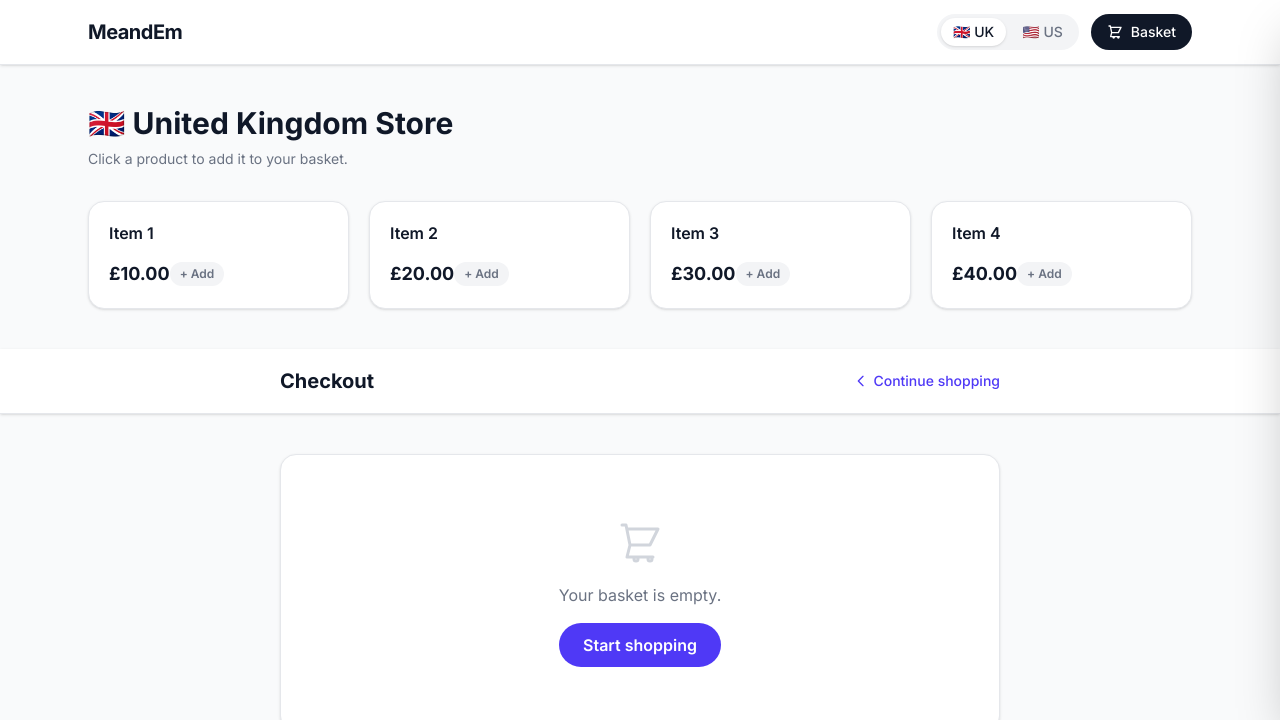
Test: Checkout › shows items and total after adding to basket
This screenshot has width=1280, height=720.
Click the button "Item 1 £10.00 + Add" at (131, 233), box [88,201,349,309]
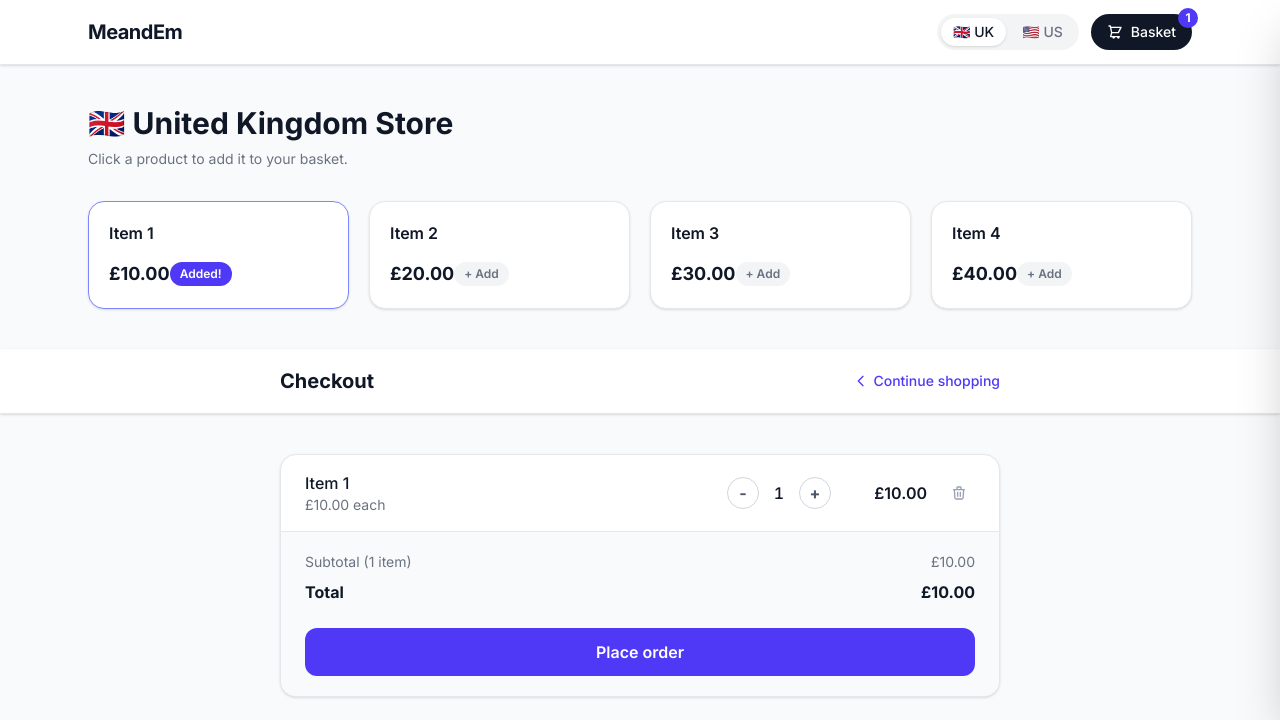
Click the button "Item 1 £10.00 Added!" at (131, 233), box [88,201,349,309]
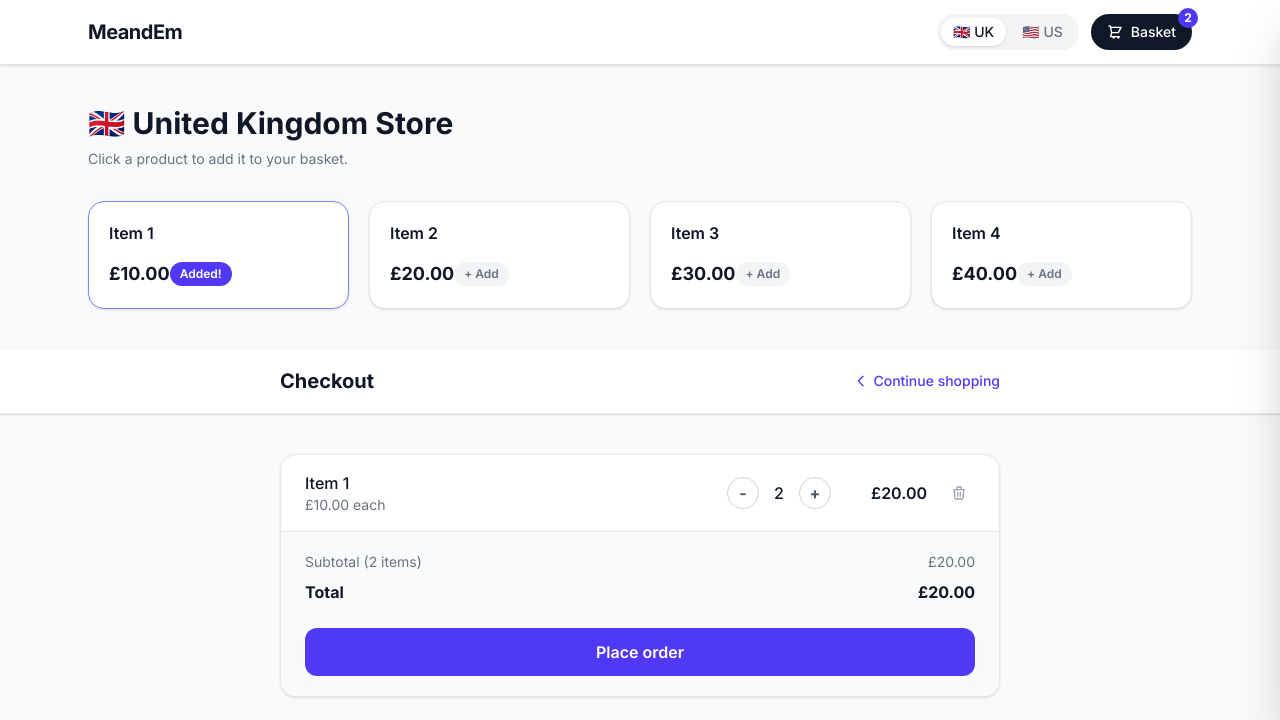
Now the button "Place order" is shown, box [305,628,975,676]
Now the text "2" in the row of "US" is shown, box [1184,10,1192,25]
